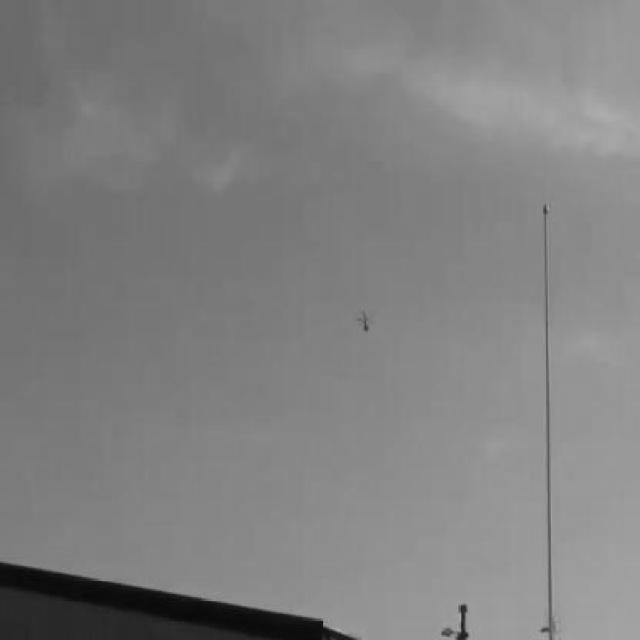helikopter: (358, 308, 373, 332)
